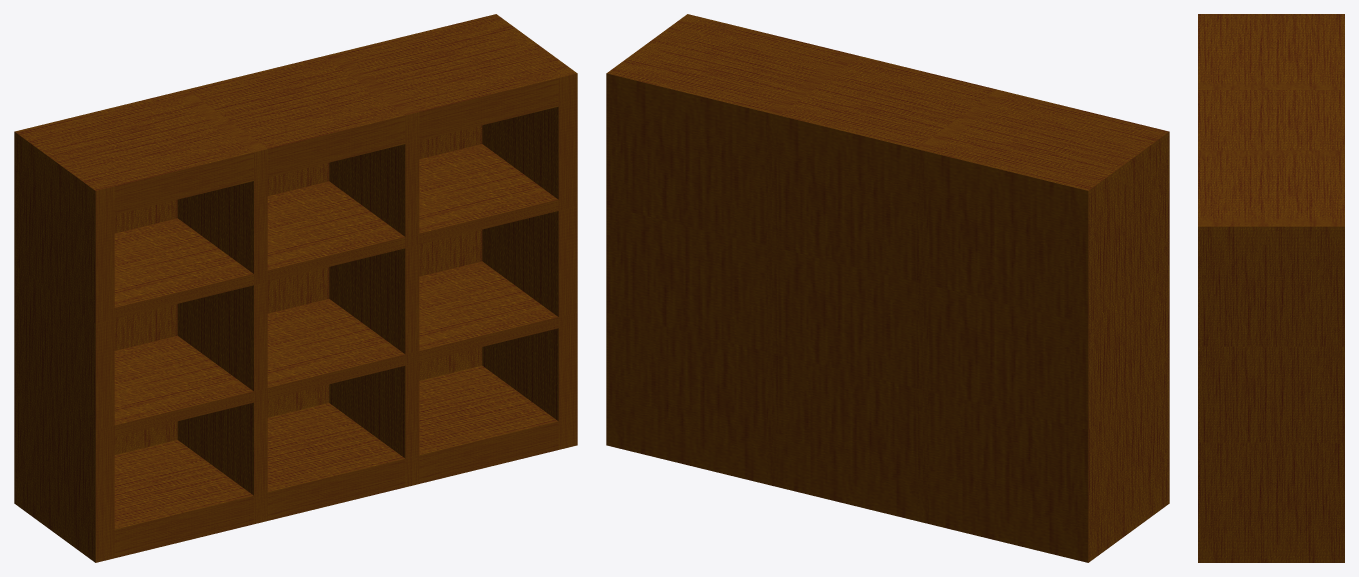
Rendered from Aseet_04_Looler.fbx.
3 views of the same model, side by side, from view 1: azimuth 30°, elevation 25°; view 2: azimuth 150°, elevation 25°; view 3: azimuth 270°, elevation 25° (orthographic). The views are drawn at different scales.
Parts seen in each view (by area): view 1: SK_04_Looker; view 2: SK_04_Looker; view 3: SK_04_Looker.
Boxes of the visible parts, box(x1,y1,x2,y2) form: SK_04_Looker: box(14, 14, 577, 562); SK_04_Looker: box(606, 14, 1169, 562); SK_04_Looker: box(1198, 14, 1344, 562).
Bounding box in the file's own units: 9.28 × 6.85 × 2.71.
Materials: 1 (1 with a texture image).
